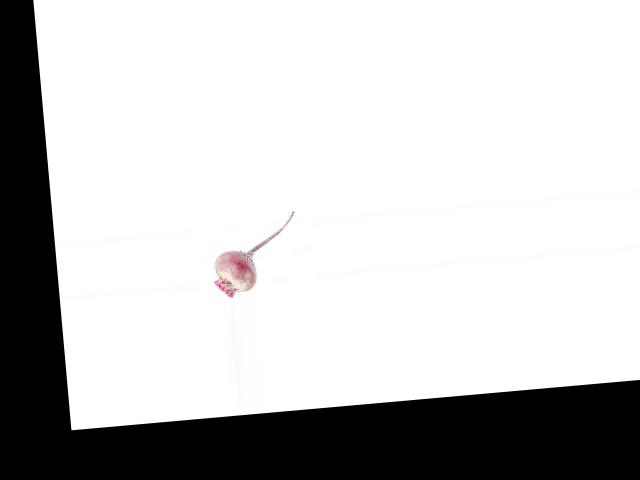beet: (209, 211, 301, 299)
